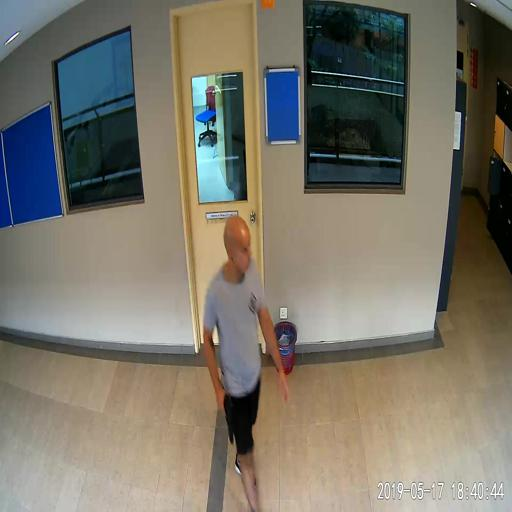pistol: (216, 390, 233, 442)
